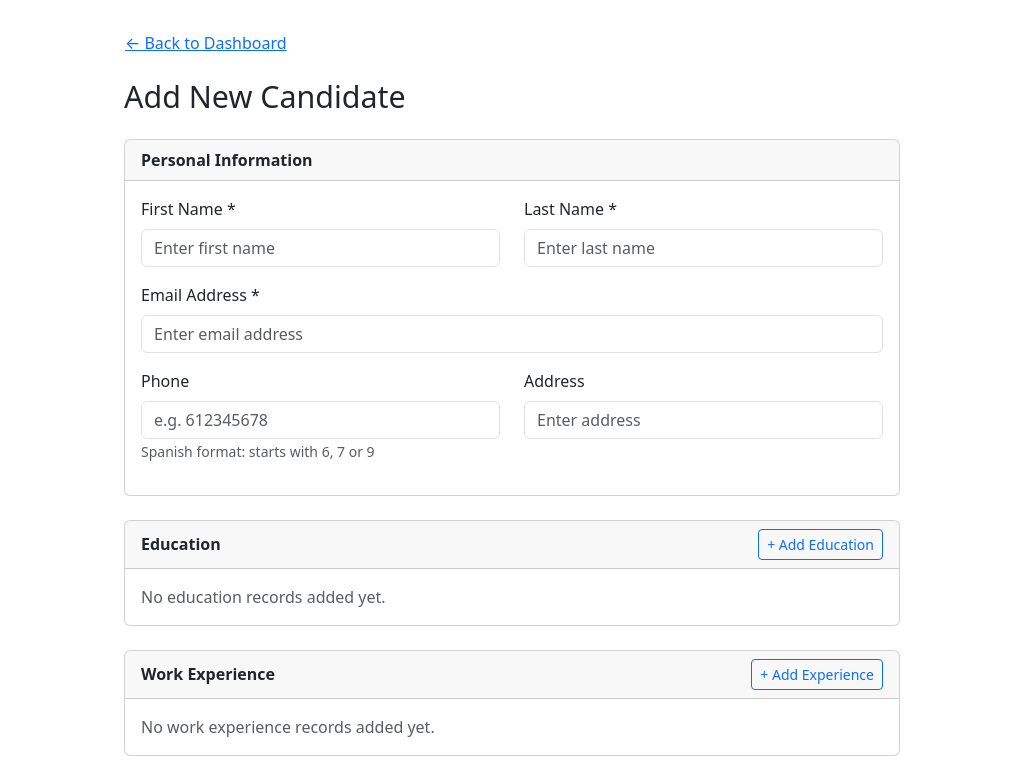
it: Add Candidate Form — UI Behaviours › Back to Dashboard navigates to /
Click the button with test id "back-to-dashboard".
click(206, 43)  # box [124,24,288,62]
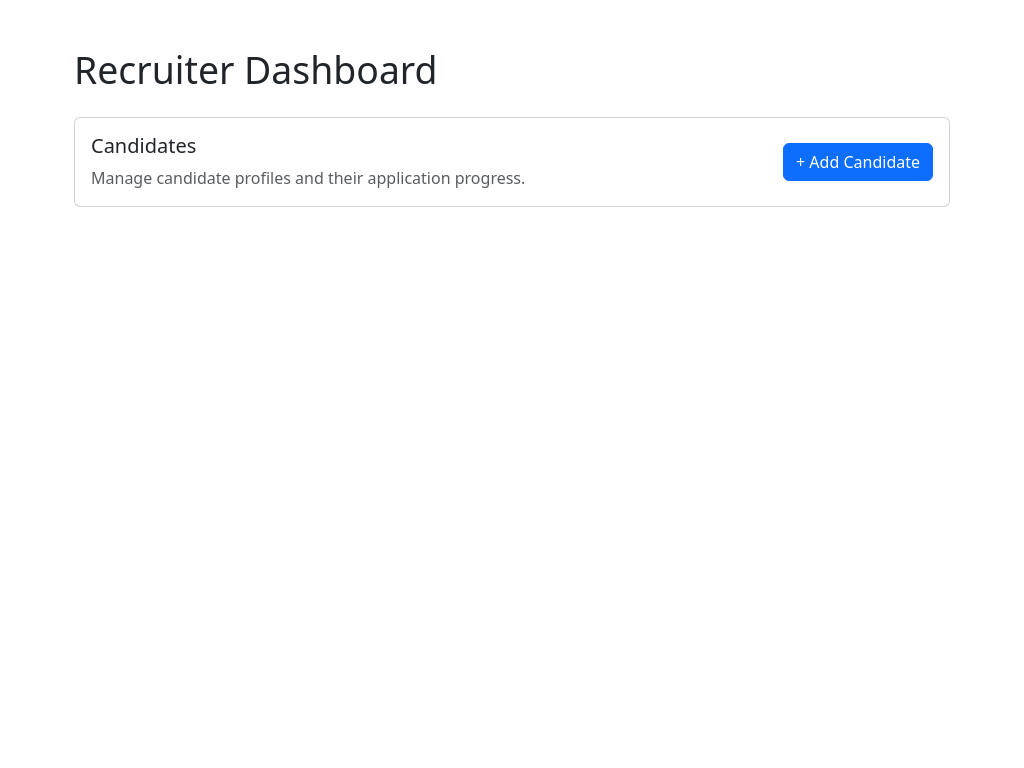
Result: the heading "Recruiter Dashboard" is shown at [74,44,438,95]
